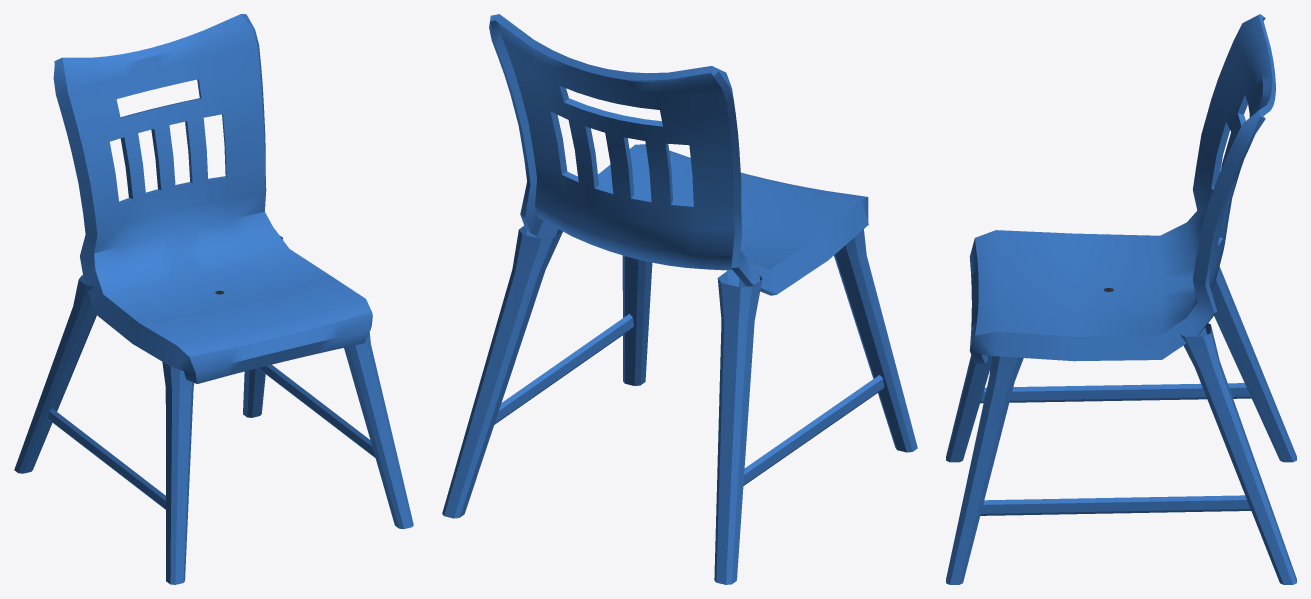
The model's file is SC_Ter_Chair_Plastic_Blue.gltf.
3 views of the same model, side by side, from view 1: azimuth 30°, elevation 25°; view 2: azimuth 150°, elevation 25°; view 3: azimuth 270°, elevation 25° (orthographic). The views are drawn at different scales.
Parts seen in each view (by area): view 1: SC_Ter_Chair_Plastic_Blue; view 2: SC_Ter_Chair_Plastic_Blue; view 3: SC_Ter_Chair_Plastic_Blue.
Part boxes in pixels (left/top/right/bottom): SC_Ter_Chair_Plastic_Blue: left=14, top=14, right=413, bottom=584; SC_Ter_Chair_Plastic_Blue: left=442, top=14, right=917, bottom=584; SC_Ter_Chair_Plastic_Blue: left=946, top=14, right=1296, bottom=584.
Size of the model in its own units: 0.5363 by 0.8763 by 0.6094.
1 material, 1 textured.
